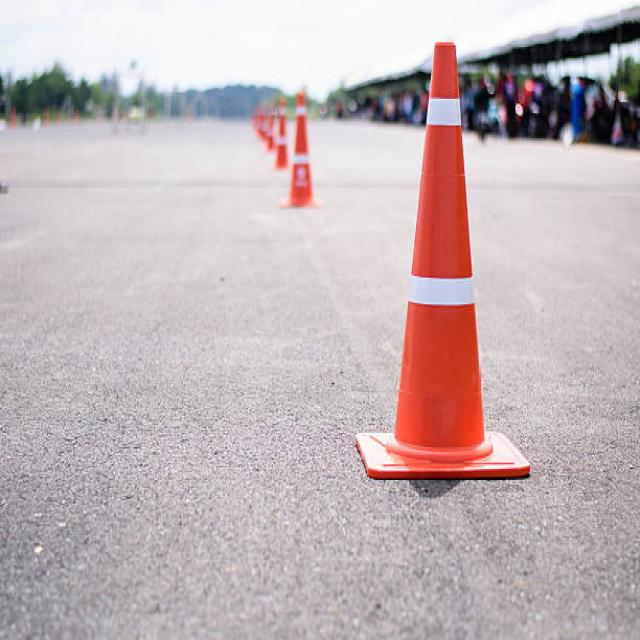Traffic Cone: (351, 14, 541, 509)
